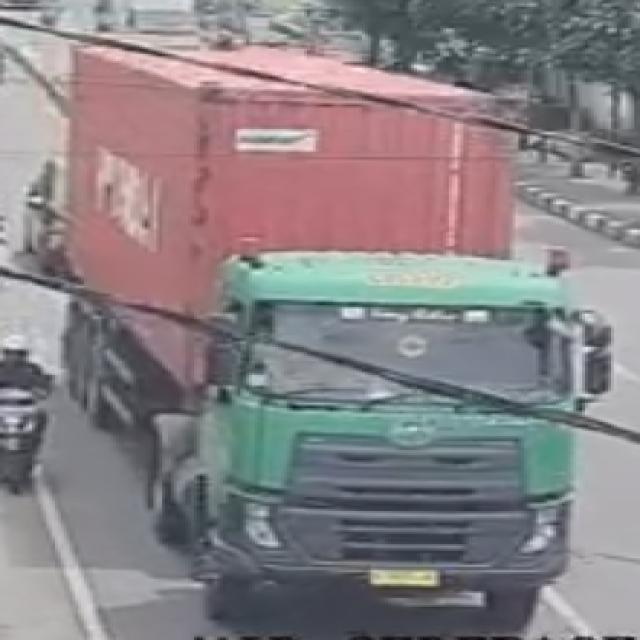truck: (36, 22, 598, 619)
